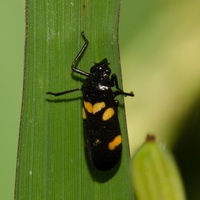insect: (46, 32, 133, 170)
